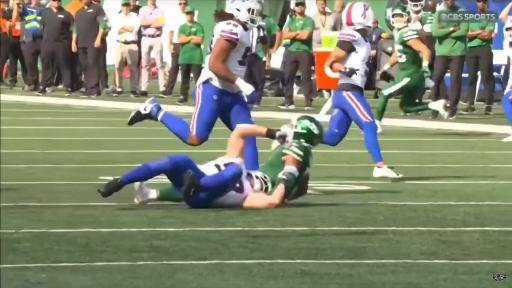Helmet: (291, 116, 323, 147), (226, 0, 262, 27), (342, 2, 374, 29), (248, 171, 272, 193), (391, 5, 409, 28), (408, 0, 425, 12), (504, 17, 511, 40)
Jersey: (198, 21, 251, 92), (260, 141, 312, 191), (199, 158, 252, 207), (338, 31, 371, 88), (393, 27, 422, 78), (408, 12, 433, 32), (503, 36, 511, 71)
Player: (99, 116, 322, 208), (128, 0, 261, 146), (323, 2, 402, 178), (376, 5, 448, 131), (250, 116, 322, 200), (408, 0, 433, 32), (502, 79, 511, 127)
